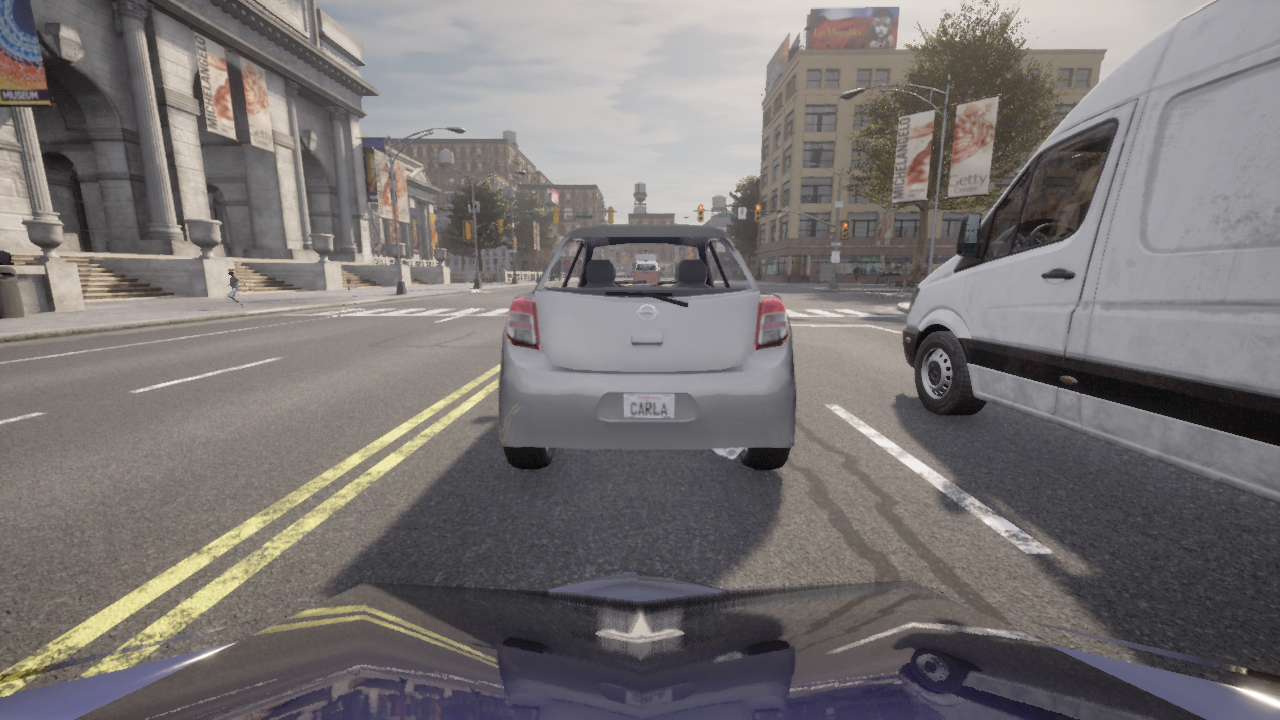cyclist: (0, 569, 1279, 719), (903, 0, 1279, 504), (498, 225, 796, 469)
pedestrian: (222, 270, 251, 309), (852, 264, 862, 287)
